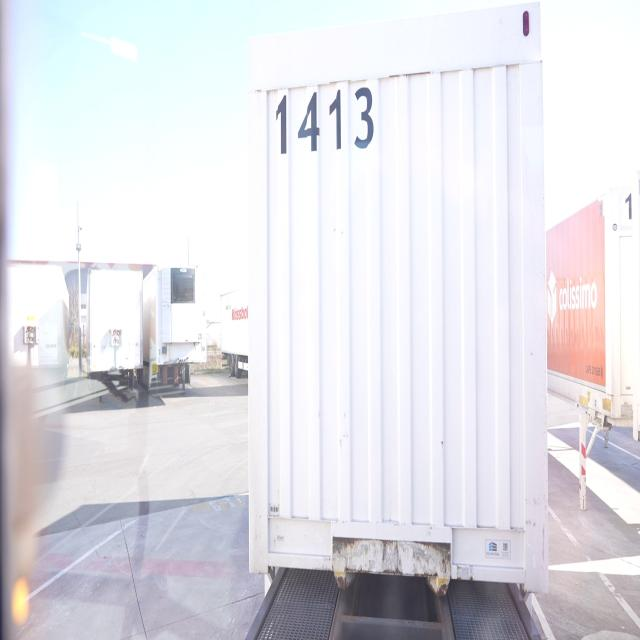Code: (270, 77, 378, 157)
